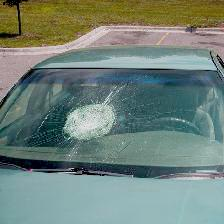glass_shatter: (15, 78, 153, 163)
